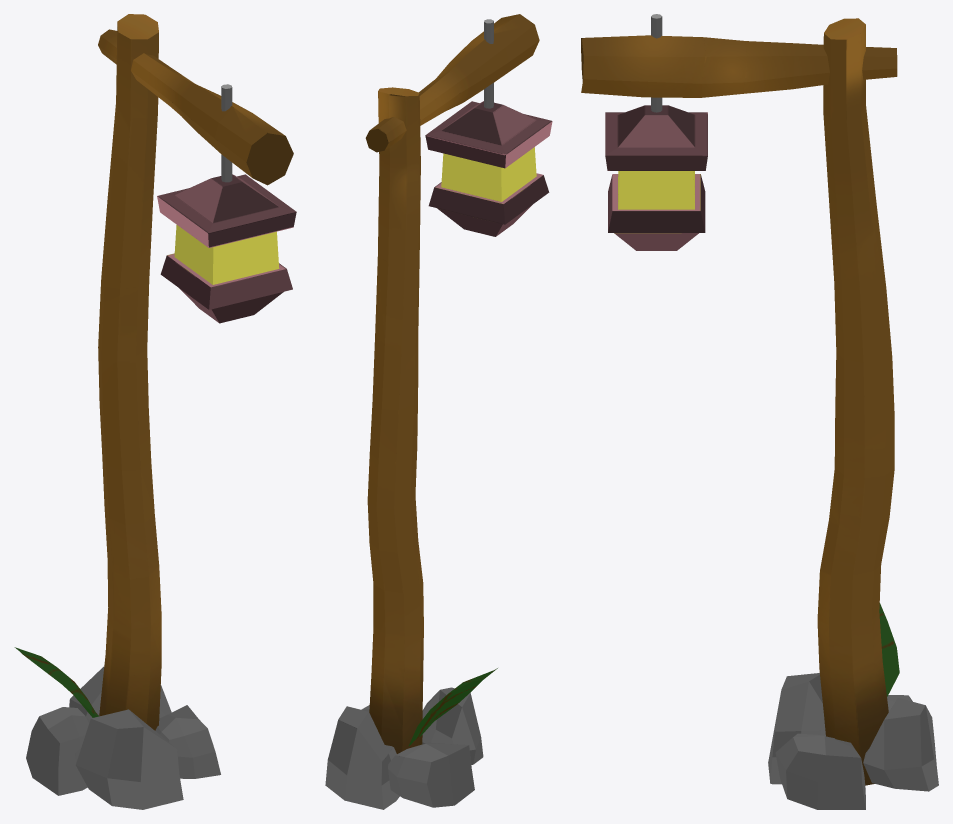
File: lampstand.glb
3 views of the same model, side by side, from view 1: azimuth 30°, elevation 25°; view 2: azimuth 150°, elevation 25°; view 3: azimuth 270°, elevation 25° (orthographic). The views are drawn at different scales.
Parts seen in each view (by area): view 1: Cylinder, Cube, Cylinder.001, Cube.002, Cube.001, Cube.005, Cube.003, Cube.004, Plane.028, Cylinder.002; view 2: Cylinder, Cube, Cylinder.001, Cube.004, Cube.001, Cube.005, Cube.002, Plane.028, Cylinder.002; view 3: Cylinder, Cylinder.001, Cube, Cube.003, Cube.004, Cube.002, Cube.005, Plane.028.
Boxes of the visible parts, x1=… form: Cylinder: x1=98, y1=14, x2=161, y2=730; Cube: x1=157, y1=174, x2=296, y2=323; Cylinder.001: x1=98, y1=29, x2=293, y2=185; Cube.002: x1=75, y1=709, x2=183, y2=809; Cube.001: x1=26, y1=707, x2=89, y2=795; Cube.005: x1=174, y1=225, x2=279, y2=284; Cube.003: x1=155, y1=705, x2=220, y2=778; Cube.004: x1=69, y1=666, x2=171, y2=720; Plane.028: x1=14, y1=647, x2=98, y2=717; Cylinder.002: x1=221, y1=84, x2=232, y2=182; Cylinder: x1=367, y1=87, x2=423, y2=753; Cube: x1=425, y1=101, x2=552, y2=236; Cylinder.001: x1=365, y1=14, x2=539, y2=152; Cube.004: x1=325, y1=706, x2=399, y2=809; Cube.001: x1=388, y1=742, x2=474, y2=807; Cube.005: x1=441, y1=147, x2=536, y2=201; Cube.002: x1=422, y1=687, x2=483, y2=764; Plane.028: x1=408, y1=668, x2=497, y2=746; Cylinder.002: x1=484, y1=19, x2=493, y2=108; Cylinder: x1=817, y1=18, x2=894, y2=785; Cylinder.001: x1=581, y1=35, x2=897, y2=97; Cube: x1=605, y1=105, x2=707, y2=250; Cube.003: x1=775, y1=733, x2=865, y2=809; Cube.004: x1=863, y1=698, x2=938, y2=791; Cube.002: x1=768, y1=673, x2=825, y2=784; Cube.005: x1=618, y1=171, x2=694, y2=209; Plane.028: x1=879, y1=603, x2=899, y2=696.
Bounding box in the file's own units: 3.89 × 16.09 × 6.86.
8 materials, 1 textured.
